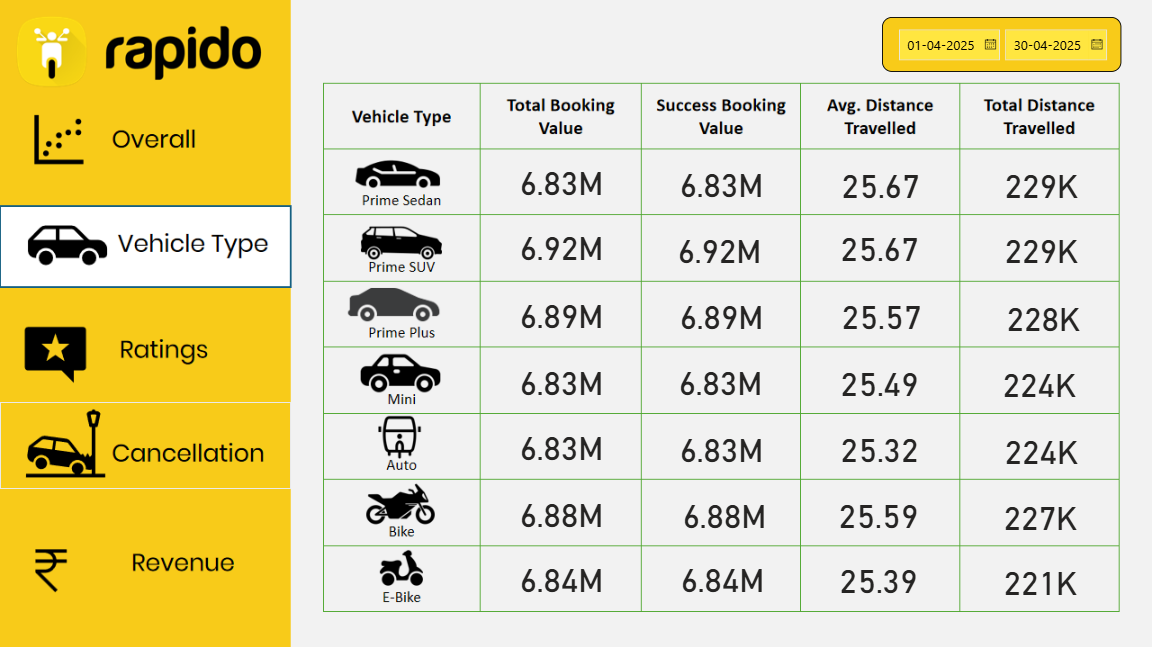

What the dashboard file says about the page in this screenshot:
{"tool":"powerbi","page":{"name":"Vehicle Type","canvas":[1280,720],"ordinal":1},"visuals":[{"type":"actionButton","box":[0,342,323,96],"z":0},{"type":"actionButton","box":[0,112,323,96],"z":1000},{"type":"actionButton","box":[0,447,323,96],"z":2000},{"type":"actionButton","box":[0,586,323,96],"z":3000},{"type":"card","fields":{"Values":["Sum(Bookings.Booking Value (??))"]},"box":[537.8,167.8,172.2,65.6],"z":4000},{"type":"card","fields":{"Values":["Sum(Bookings.Booking Value (??))"]},"box":[537.8,240,172.2,65.6],"z":5000},{"type":"card","fields":{"Values":["Sum(Bookings.Booking Value (??))"]},"box":[537.8,536.7,172.2,65.6],"z":6000},{"type":"card","fields":{"Values":["Sum(Bookings.Booking Value (??))"]},"box":[537.8,462.2,172.2,65.6],"z":7000},{"type":"card","fields":{"Values":["Sum(Bookings.Booking Value (??))"]},"box":[537.8,390,172.2,65.6],"z":8000},{"type":"card","fields":{"Values":["Sum(Bookings.Booking Value (??))"]},"box":[537.8,315.6,172.2,65.6],"z":9000},{"type":"card","fields":{"Values":["Sum(Bookings.Booking Value (??))"]},"box":[537.8,608.9,172.2,65.6],"z":10000},{"type":"card","fields":{"Values":["Sum(Bookings.Booking Value (??))"]},"box":[715.6,170,172.2,65.6],"z":11000},{"type":"card","fields":{"Values":["Sum(Bookings.Booking Value (??))"]},"box":[713.3,243.3,172.2,65.6],"z":12000},{"type":"card","fields":{"Values":["Sum(Bookings.Booking Value (??))"]},"box":[715.6,316.7,172.2,65.6],"z":13000},{"type":"card","fields":{"Values":["Sum(Bookings.Booking Value (??))"]},"box":[714.4,390,172.2,65.6],"z":14000},{"type":"card","fields":{"Values":["Sum(Bookings.Booking Value (??))"]},"box":[715.6,464.4,172.2,65.6],"z":15000},{"type":"card","fields":{"Values":["Sum(Bookings.Booking Value (??))"]},"box":[718.9,537.8,172.2,65.6],"z":16000},{"type":"card","fields":{"Values":["Sum(Bookings.Booking Value (??))"]},"box":[716.7,608.9,172.2,65.6],"z":17000},{"type":"card","fields":{"Values":["Avg(Bookings.Ride Distance (km))"]},"box":[892.2,171.1,172.2,65.6],"z":18000},{"type":"card","fields":{"Values":["Avg(Bookings.Ride Distance (km))"]},"box":[891.1,241.1,172.2,65.6],"z":19000},{"type":"card","fields":{"Values":["Avg(Bookings.Ride Distance (km))"]},"box":[893.3,316.7,172.2,65.6],"z":20000},{"type":"card","fields":{"Values":["Avg(Bookings.Ride Distance (km))"]},"box":[891.1,391.1,172.2,65.6],"z":21000},{"type":"card","fields":{"Values":["Avg(Bookings.Ride Distance (km))"]},"box":[891.1,464.4,172.2,65.6],"z":22000},{"type":"card","fields":{"Values":["Avg(Bookings.Ride Distance (km))"]},"box":[890,537.8,172.2,65.6],"z":23000},{"type":"card","fields":{"Values":["Avg(Bookings.Ride Distance (km))"]},"box":[890,610,172.2,65.6],"z":24000},{"type":"card","fields":{"Values":["Sum(Bookings.Ride Distance (km))"]},"box":[1071.1,171.1,172.2,65.6],"z":25000},{"type":"card","fields":{"Values":["Sum(Bookings.Ride Distance (km))"]},"box":[1071.1,243.3,172.2,65.6],"z":26000},{"type":"card","fields":{"Values":["Sum(Bookings.Ride Distance (km))"]},"box":[1073.3,318.9,172.2,65.6],"z":27000},{"type":"card","fields":{"Values":["Sum(Bookings.Ride Distance (km))"]},"box":[1068.9,392.2,172.2,65.6],"z":28000},{"type":"card","fields":{"Values":["Sum(Bookings.Ride Distance (km))"]},"box":[1071.1,466.7,172.2,65.6],"z":29000},{"type":"card","fields":{"Values":["Sum(Bookings.Ride Distance (km))"]},"box":[1070,540,172.2,65.6],"z":30000},{"type":"card","fields":{"Values":["Sum(Bookings.Ride Distance (km))"]},"box":[1070,612.2,172.2,65.6],"z":31000},{"type":"slicer","title":"DATE","fields":{"Values":["Bookings.Date"]},"box":[980,18.9,265.6,61.1],"z":32000}]}

Visuals, with their boxes in screenshot pixels (x1, y1, x2, y2), scaled from the page's 1280x720 canvas onto the 1152x647 screenshot:
actionButton: box(0, 307, 291, 394)
actionButton: box(0, 101, 291, 187)
actionButton: box(0, 402, 291, 488)
actionButton: box(0, 527, 291, 613)
card - Sum(Bookings.Booking Value (??)): box(484, 151, 639, 210)
card - Sum(Bookings.Booking Value (??)): box(484, 216, 639, 275)
card - Sum(Bookings.Booking Value (??)): box(484, 482, 639, 541)
card - Sum(Bookings.Booking Value (??)): box(484, 415, 639, 474)
card - Sum(Bookings.Booking Value (??)): box(484, 350, 639, 409)
card - Sum(Bookings.Booking Value (??)): box(484, 284, 639, 343)
card - Sum(Bookings.Booking Value (??)): box(484, 547, 639, 606)
card - Sum(Bookings.Booking Value (??)): box(644, 153, 799, 212)
card - Sum(Bookings.Booking Value (??)): box(642, 219, 797, 278)
card - Sum(Bookings.Booking Value (??)): box(644, 285, 799, 344)
card - Sum(Bookings.Booking Value (??)): box(643, 350, 798, 409)
card - Sum(Bookings.Booking Value (??)): box(644, 417, 799, 476)
card - Sum(Bookings.Booking Value (??)): box(647, 483, 802, 542)
card - Sum(Bookings.Booking Value (??)): box(645, 547, 800, 606)
card - Avg(Bookings.Ride Distance (km)): box(803, 154, 958, 213)
card - Avg(Bookings.Ride Distance (km)): box(802, 217, 957, 276)
card - Avg(Bookings.Ride Distance (km)): box(804, 285, 959, 344)
card - Avg(Bookings.Ride Distance (km)): box(802, 351, 957, 410)
card - Avg(Bookings.Ride Distance (km)): box(802, 417, 957, 476)
card - Avg(Bookings.Ride Distance (km)): box(801, 483, 956, 542)
card - Avg(Bookings.Ride Distance (km)): box(801, 548, 956, 607)
card - Sum(Bookings.Ride Distance (km)): box(964, 154, 1119, 213)
card - Sum(Bookings.Ride Distance (km)): box(964, 219, 1119, 278)
card - Sum(Bookings.Ride Distance (km)): box(966, 287, 1121, 346)
card - Sum(Bookings.Ride Distance (km)): box(962, 352, 1117, 411)
card - Sum(Bookings.Ride Distance (km)): box(964, 419, 1119, 478)
card - Sum(Bookings.Ride Distance (km)): box(963, 485, 1118, 544)
card - Sum(Bookings.Ride Distance (km)): box(963, 550, 1118, 609)
"DATE" slicer: box(882, 17, 1121, 72)
